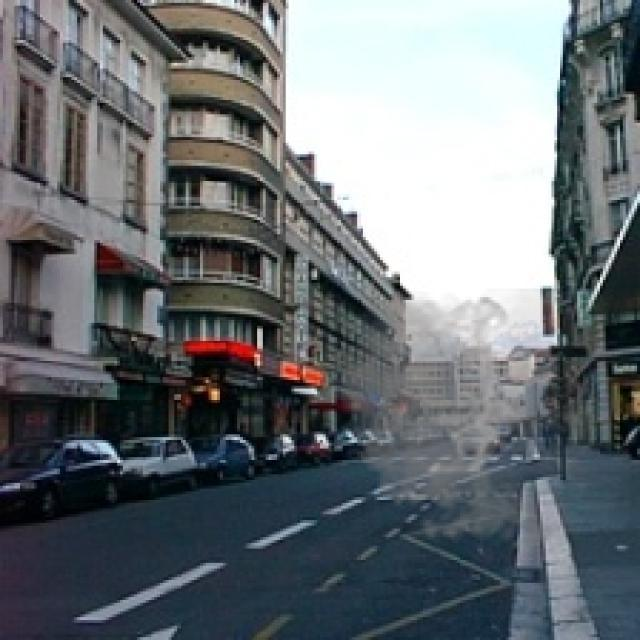Smoke: (317, 288, 589, 558)
